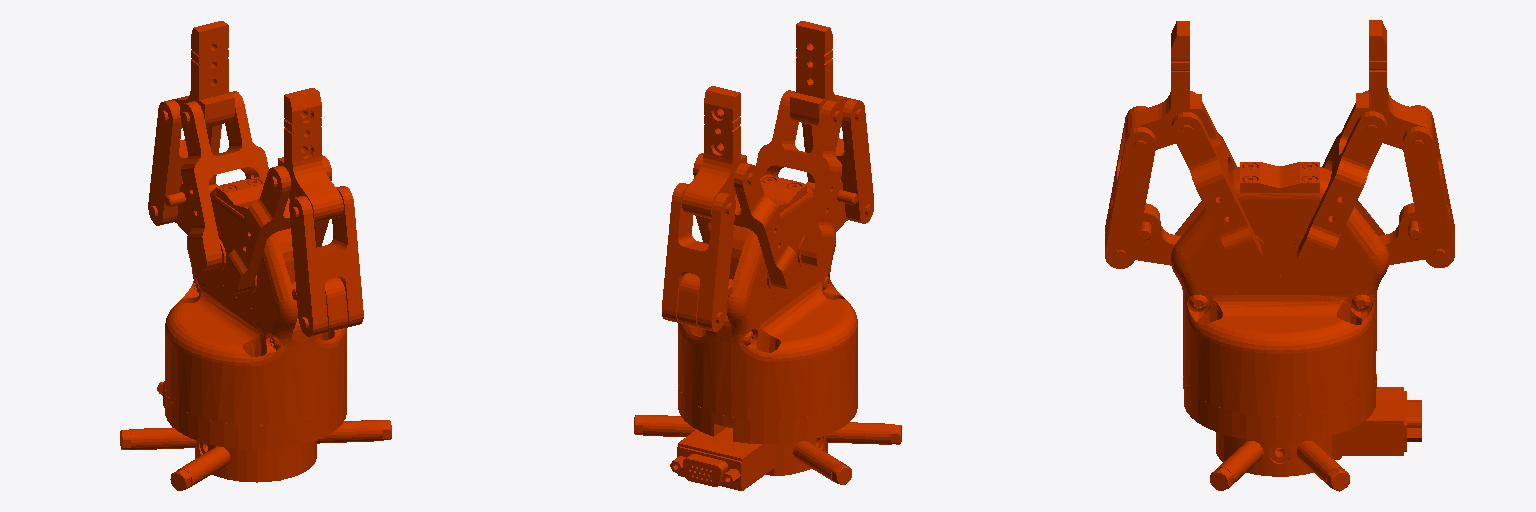
URDF robot description (robotiq_arg85_description):
<robot
  name="robotiq_arg85_description">
  <link
    name="tool_link">
    <inertial>
      <origin
        xyz="5.71609771160645E-07 0.000946761157269248 0.056894946642715"
        rpy="0 0 0" />
      <mass
        value="0.42879427891986" />
      <inertia
        ixx="0.000880051557317243"
        ixy="4.03284279859283E-09"
        ixz="-1.46541187954161E-08"
        iyy="0.000715516395877899"
        iyz="-1.9823044769061E-05"
        izz="0.000390642046719696" />
    </inertial>
    <visual>
      <origin
        xyz="0 0 0"
        rpy="0 0 0" />
      <geometry>
        <mesh
          filename="package://robotiq_arg85_description/meshes/tool_link.STL" />
      </geometry>
      <material
        name="">
        <color
          rgba="0.811764705882353 0.250980392156863 0 1" />
      </material>
    </visual>
    <collision>
      <origin
        xyz="0 0 0"
        rpy="0 0 0" />
      <geometry>
        <mesh
          filename="package://robotiq_arg85_description/meshes/tool_link.STL" />
      </geometry>
    </collision>
  </link>
</robot>

--- Render facts (derived) ---
3 views of the same robot in one strip: view 1: azimuth 30°, elevation 25°; view 2: azimuth 150°, elevation 25°; view 3: azimuth 270°, elevation 25° (orthographic).
Model robotiq_arg85_description with 1 links and 0 joints (none), rooted at tool_link, posed all joints at 0.
Links seen in each view (by area): view 1: tool_link; view 2: tool_link; view 3: tool_link.
Link boxes in pixels (x1=…): tool_link: x1=120, y1=21, x2=391, y2=490; tool_link: x1=634, y1=21, x2=901, y2=490; tool_link: x1=1105, y1=20, x2=1454, y2=491.
Bounding box of the posed robot: 0.1043 × 0.1357 × 0.1833 m (x, y, z).
1 mesh visuals loaded from 1 distinct referenced files (1 binary STL).